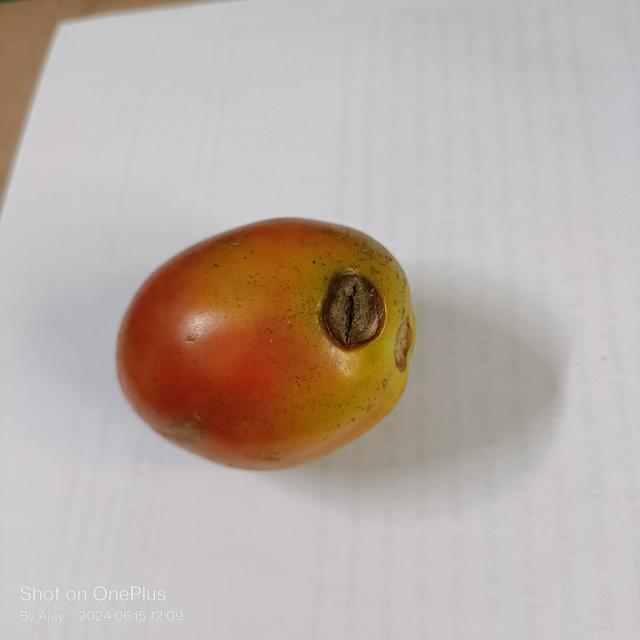Anthrocnose: (315, 273, 384, 351)
